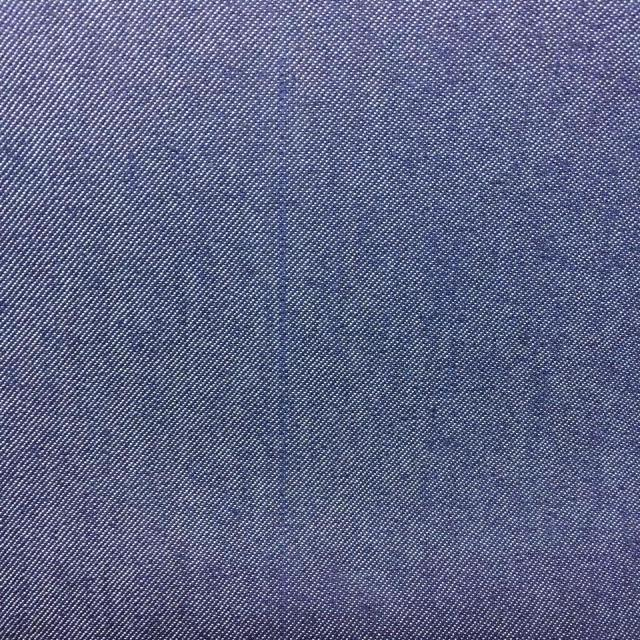Line: (274, 68, 289, 531)
